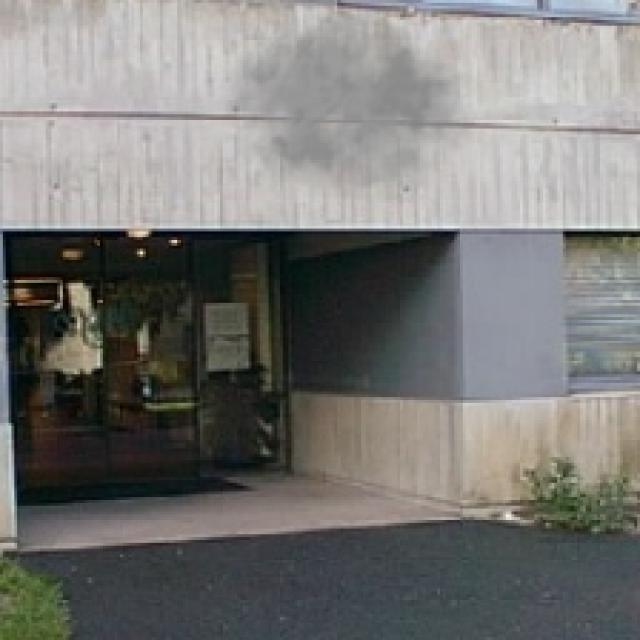smoke: (223, 12, 486, 215)
